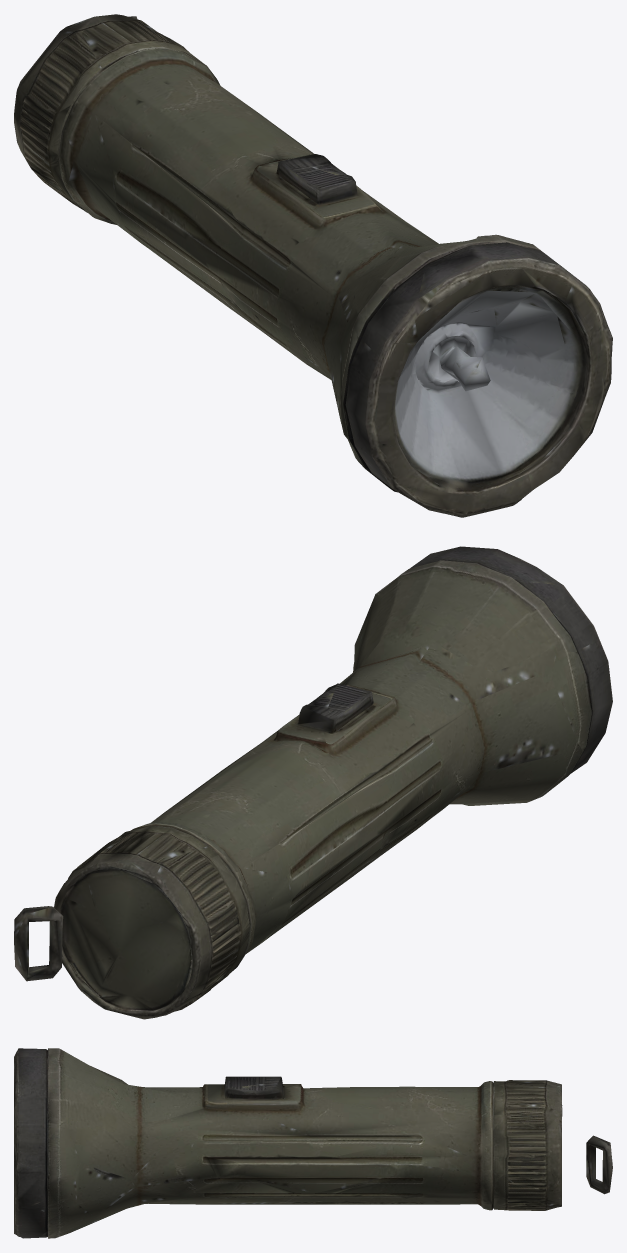
Rendered from Linterna.glb.
The picture shows the model from 3 angles, top to bottom: view 1: azimuth 30°, elevation 25°; view 2: azimuth 150°, elevation 25°; view 3: azimuth 270°, elevation 25°; orthographic projection. The views are drawn at different scales.
Visible parts, largest first — view 1: node_0; view 2: node_0; view 3: node_0.
Boxes of the visible parts, x1,y1,x2,y2 form: node_0: (14, 14, 612, 517); node_0: (14, 546, 612, 1019); node_0: (14, 1048, 612, 1238).
Bounding box in the file's own units: 0.3733 × 0.3649 × 1.14.
1 material, 1 textured.
